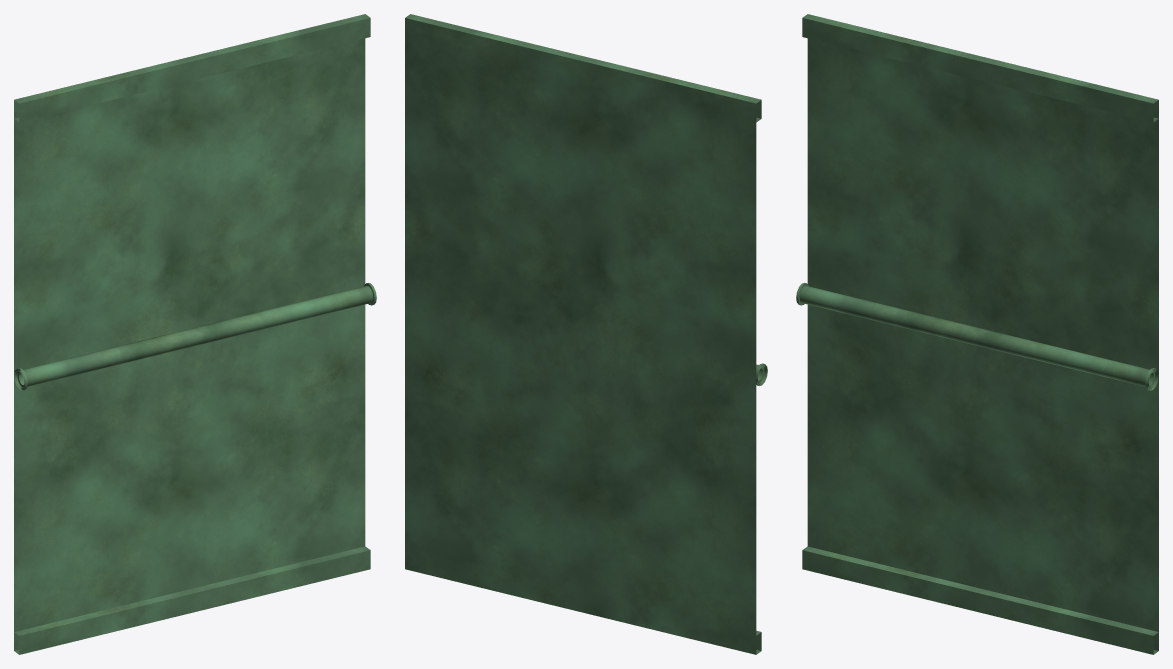
Rendered from Wall_LowerDeck_Middle.FBX.
The picture shows the model from 3 angles, left to right: view 1: azimuth 30°, elevation 25°; view 2: azimuth 150°, elevation 25°; view 3: azimuth 330°, elevation 25°; orthographic projection.
Visible parts, largest first — view 1: Plane009; view 2: Plane009; view 3: Plane009.
Part boxes in pixels (bbox=[...]): Plane009: bbox=[14, 14, 376, 654]; Plane009: bbox=[405, 14, 767, 654]; Plane009: bbox=[796, 14, 1158, 654].
Size of the model in its own units: 200 by 300 by 11.34.
